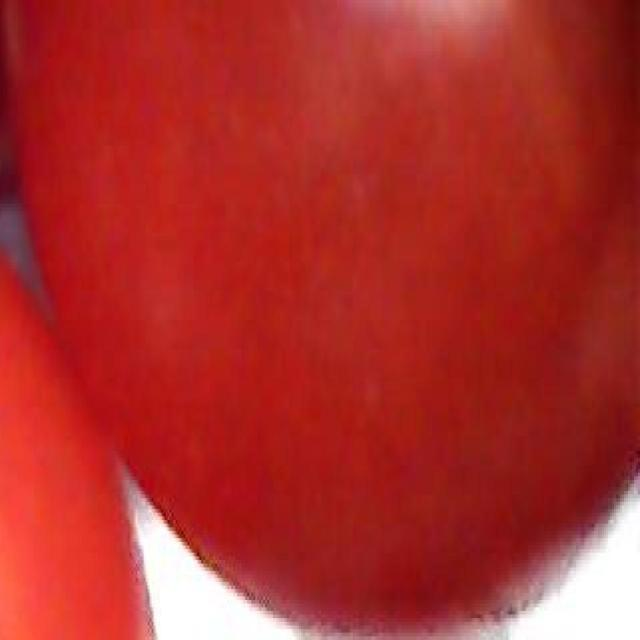Healthy Fruit: (8, 1, 427, 427)
